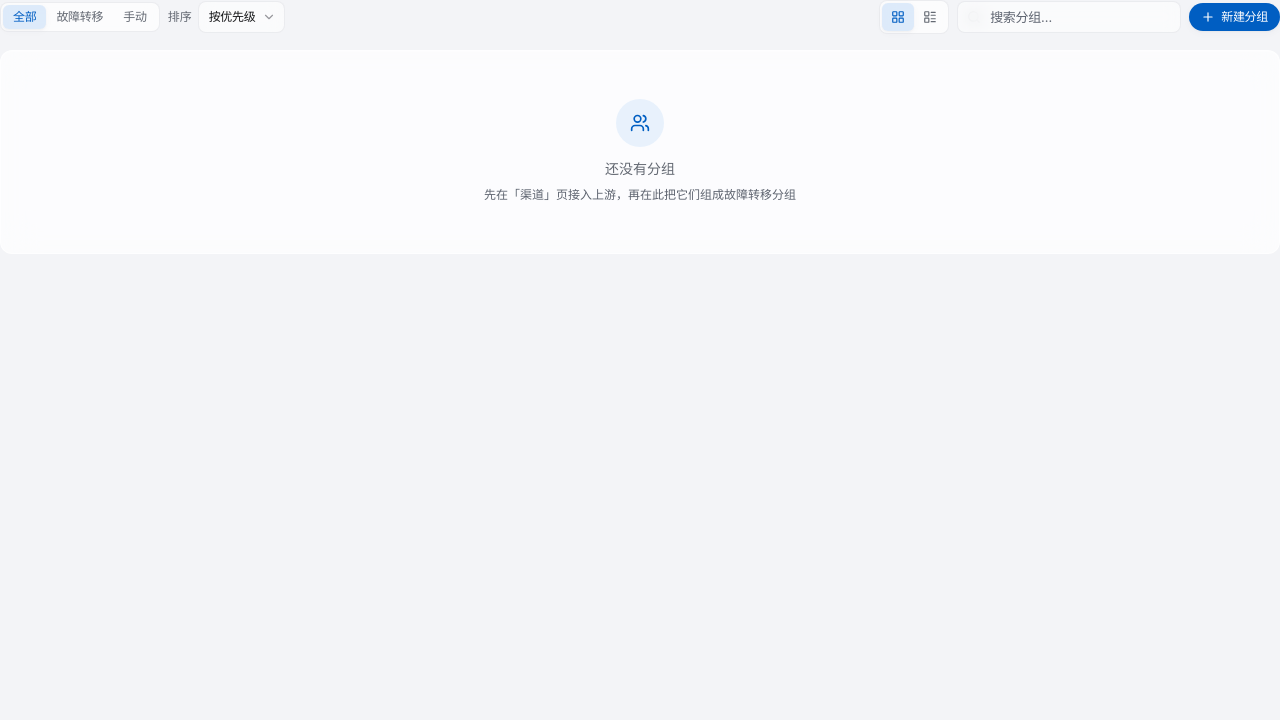
GroupEditor relay_config 默认值契约 › 新建分组：表单默认值取 DEFAULT_GROUP_RELAY_CONFIG（粘合开、轮次 600），不是 false/60
Click the button "新建分组" at (1235, 17), box [1189, 3, 1279, 31]
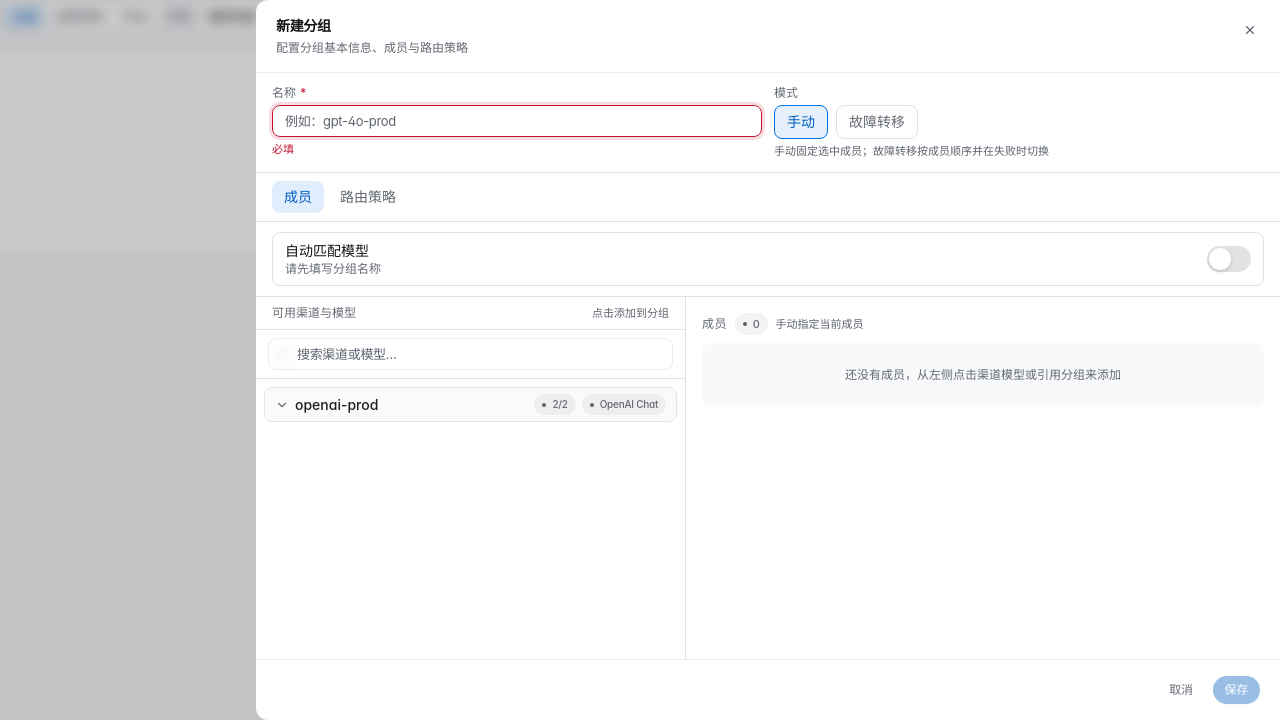
Check: the dialog is shown
Note: 路由策略字段在「路由策略」Tab 内，切过去才能看到
Click the button "路由策略" at (368, 196), box [328, 180, 408, 212]
(page scrolled)
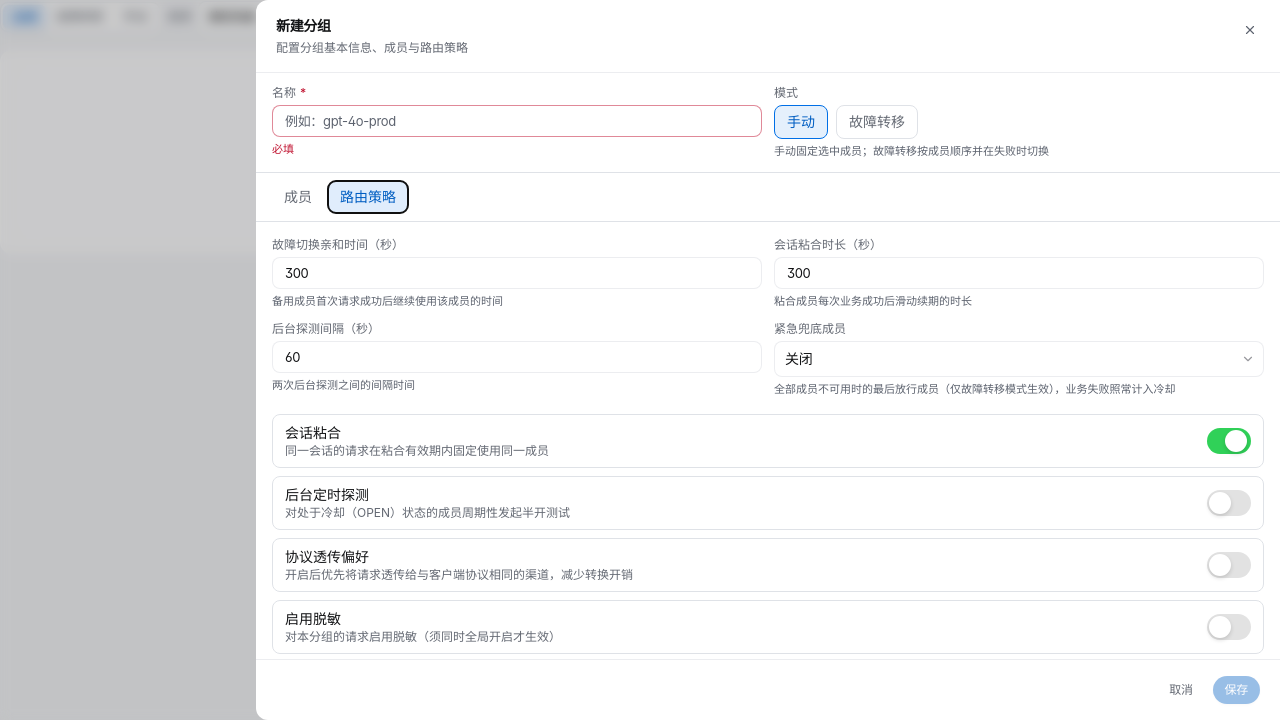
Check: the number of switches is 4, box [1207, 428, 1251, 454]; [1207, 490, 1251, 516]; [1207, 552, 1251, 578]; [1207, 614, 1251, 640]
